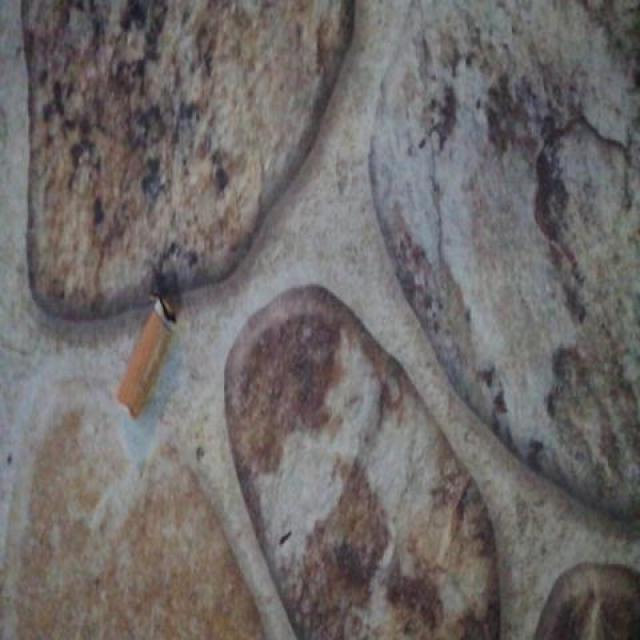non-organic waste: (111, 289, 182, 426)
